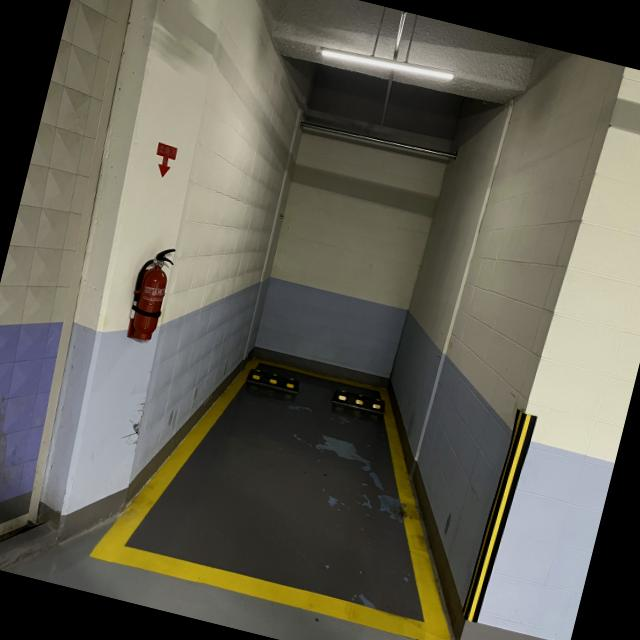free: (114, 327, 516, 640)
